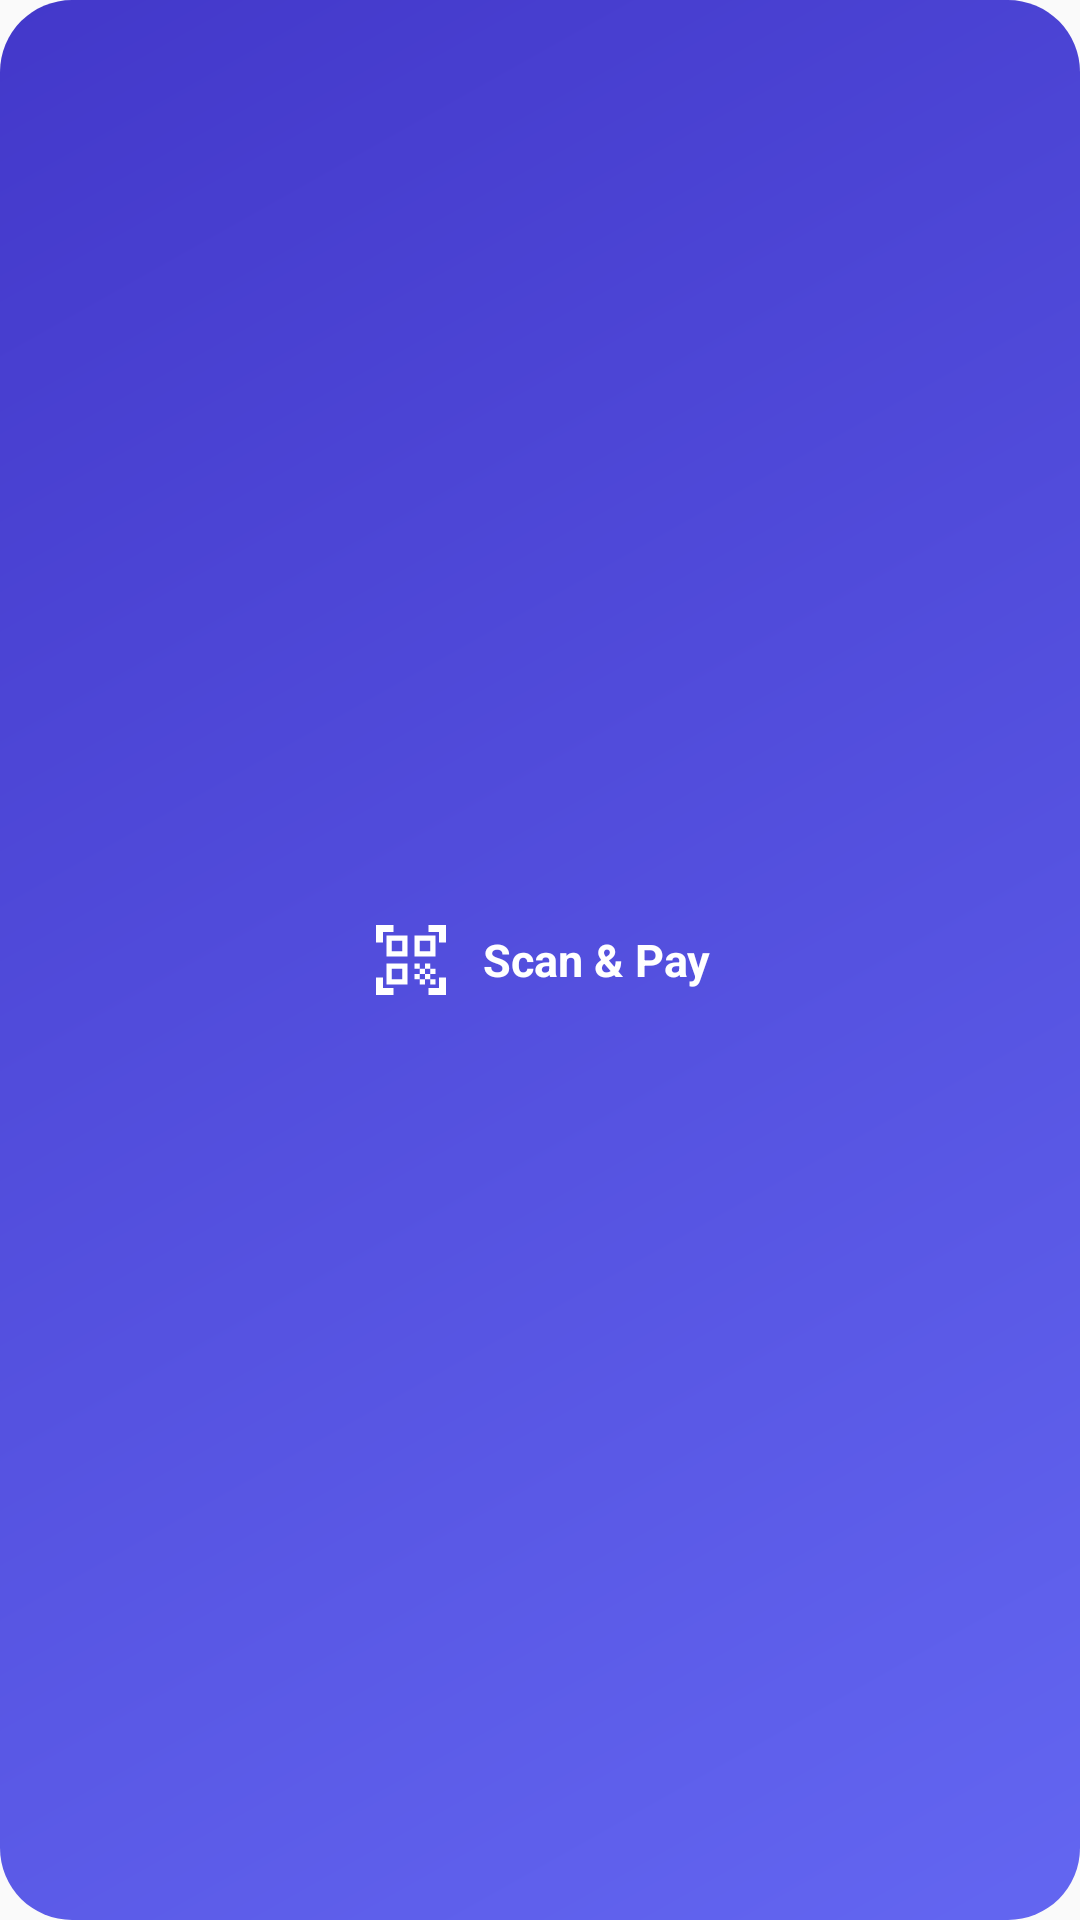

Icon bounding boxes for this 1080w x 1920h phone screenshot, format [x1=x1, y1=y1, x2=x2, y2=y2]:
widget qr: [x1=376, y1=925, x2=446, y2=995]
